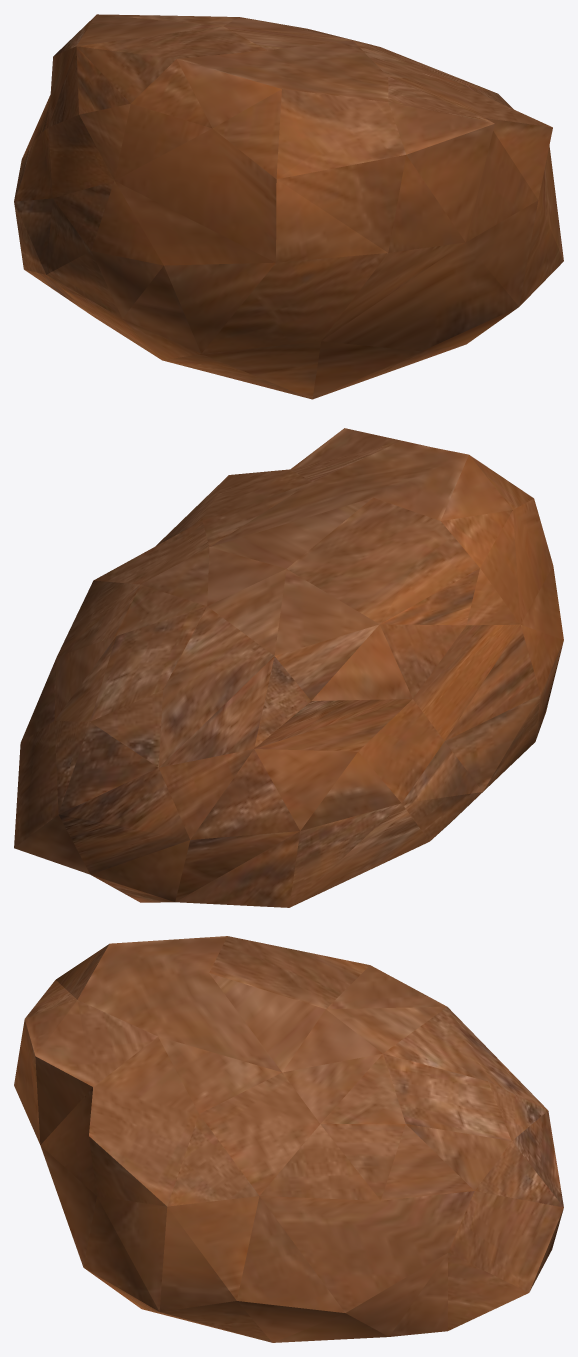
File: de_ventifact_boulder_lod2.glb
The picture shows the model from 3 angles, top to bottom: view 1: azimuth 30°, elevation 25°; view 2: azimuth 150°, elevation 25°; view 3: azimuth 270°, elevation 25°; orthographic projection. The views are drawn at different scales.
Visible parts, largest first — view 1: mesh; view 2: mesh; view 3: mesh.
Part boxes in pixels (x1=…): mesh: x1=14, y1=14, x2=563, y2=399; mesh: x1=14, y1=428, x2=563, y2=907; mesh: x1=14, y1=936, x2=563, y2=1342.
Bounding box in the file's own units: 1.48 × 1.04 × 1.77.
1 material, 1 textured.
